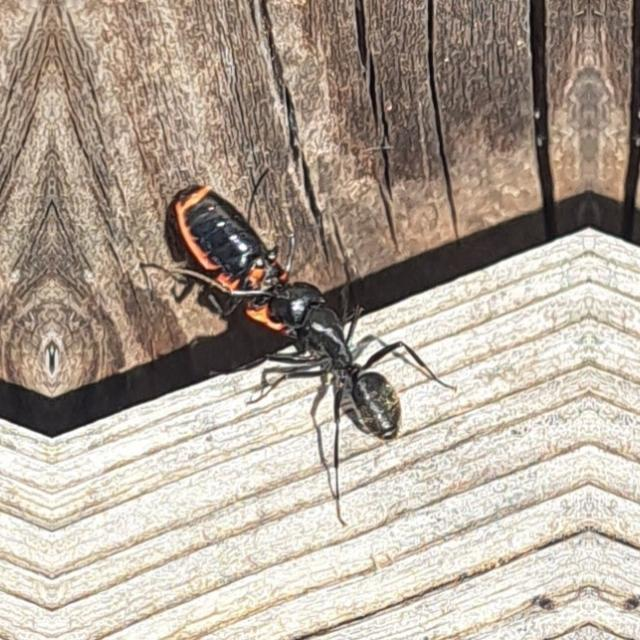Camponotus: (248, 260, 430, 462)
